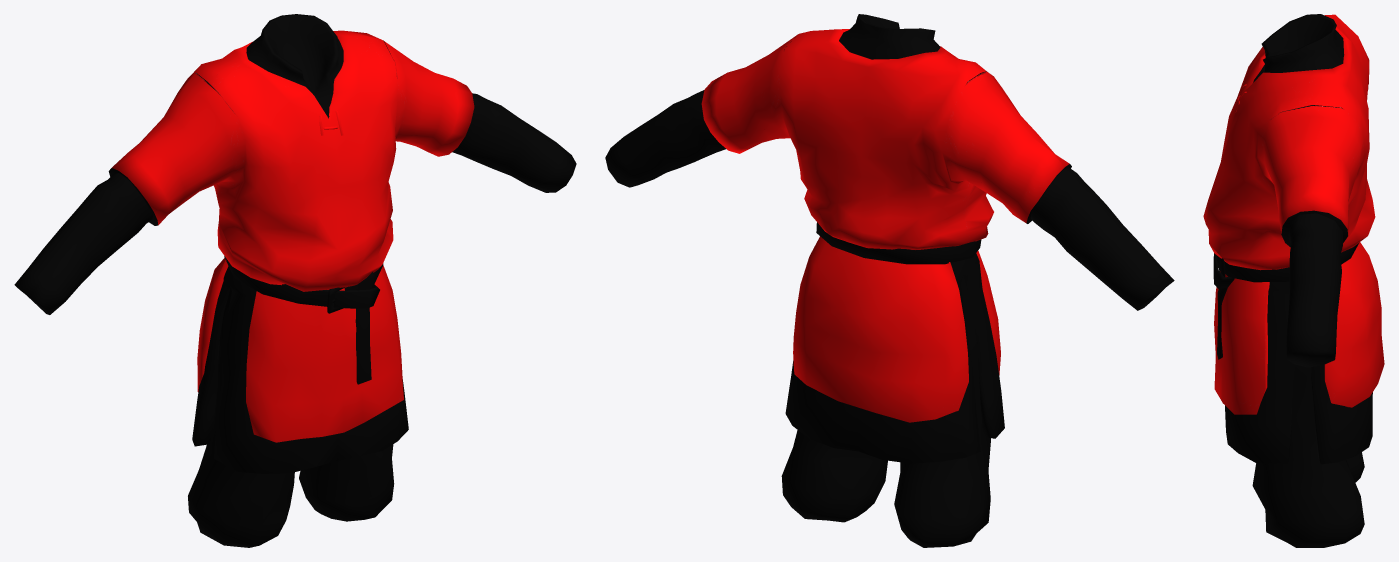
The model's file is nordic_sloven_b_rework.fbx.
The picture shows the model from 3 angles, left to right: view 1: azimuth 30°, elevation 25°; view 2: azimuth 150°, elevation 25°; view 3: azimuth 270°, elevation 25°; orthographic projection. The views are drawn at different scales.
Parts seen in each view (by area): view 1: nordic_sloven_b_rework; view 2: nordic_sloven_b_rework; view 3: nordic_sloven_b_rework.
Part boxes in pixels (<box>): nordic_sloven_b_rework: <box>14,14,576,547</box>; nordic_sloven_b_rework: <box>605,14,1174,547</box>; nordic_sloven_b_rework: <box>1203,14,1384,547</box>.
Size of the model in its own units: 141 by 122 by 40.87.
